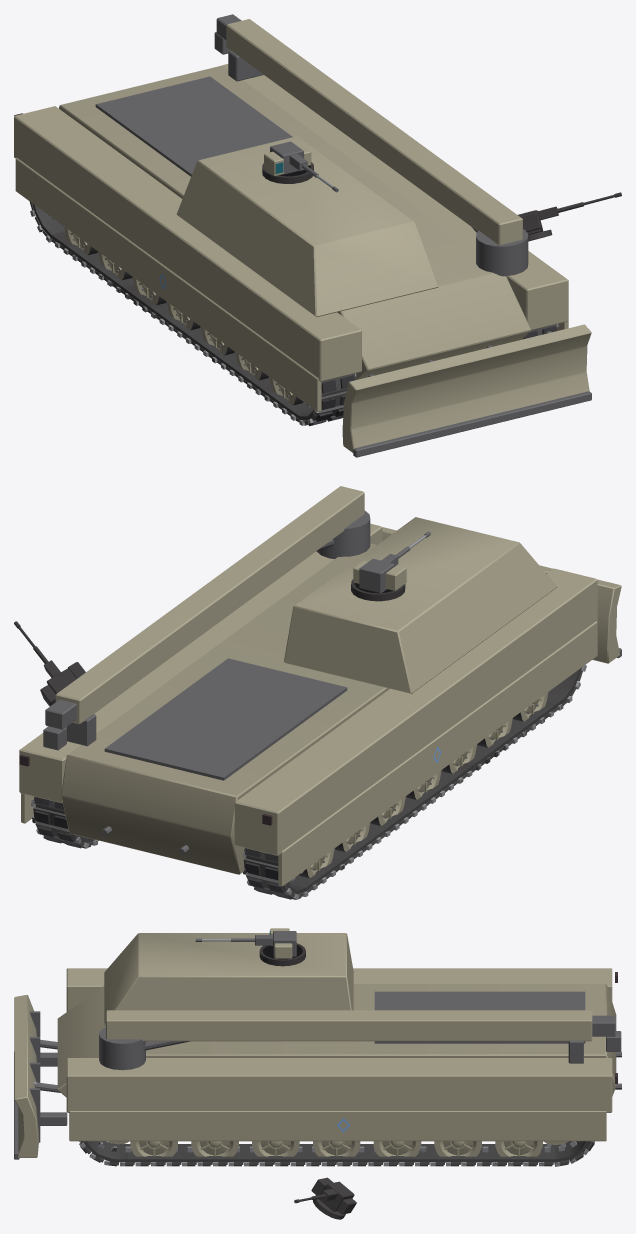
File: recoveryVehicle__leclerc_dcl.glb
3 renders of one model, top to bottom at view 1: azimuth 30°, elevation 25°; view 2: azimuth 150°, elevation 25°; view 3: azimuth 270°, elevation 25°, orthographic. The views are drawn at different scales.
Parts seen in each view (by area): view 1: Hull_Mesh, Track_L_Mesh, Wreck, Turret_Mesh; view 2: Hull_Mesh, Track_L_Mesh, Wreck, Track_R_Mesh, Turret_Mesh; view 3: Hull_Mesh, Track_R_Mesh, Wreck, Turret_Mesh, Wheel_R2_Mesh, Wheel_R3_Mesh, Wheel_R4_Mesh, Wheel_R5_Mesh, Wheel_R0_Mesh, Wheel_R1_Mesh, Wheel_R6_Mesh, Gun_Mesh.
Part boxes in pixels (bbox=[...]): Hull_Mesh: bbox=[14, 14, 591, 457]; Track_L_Mesh: bbox=[30, 202, 356, 426]; Wreck: bbox=[30, 162, 621, 424]; Turret_Mesh: bbox=[264, 141, 311, 176]; Hull_Mesh: bbox=[19, 486, 621, 886]; Track_L_Mesh: bbox=[242, 665, 586, 899]; Wreck: bbox=[14, 579, 580, 896]; Track_R_Mesh: bbox=[31, 796, 98, 848]; Turret_Mesh: bbox=[353, 558, 406, 592]; Hull_Mesh: bbox=[14, 933, 621, 1159]; Track_R_Mesh: bbox=[79, 1141, 594, 1166]; Wreck: bbox=[79, 943, 594, 1219]; Turret_Mesh: bbox=[269, 928, 296, 958]; Wheel_R2_Mesh: bbox=[373, 1141, 421, 1164]; Wheel_R3_Mesh: bbox=[313, 1141, 360, 1164]; Wheel_R4_Mesh: bbox=[252, 1141, 299, 1164]; Wheel_R5_Mesh: bbox=[191, 1141, 238, 1164]; Wheel_R0_Mesh: bbox=[495, 1141, 542, 1163]; Wheel_R1_Mesh: bbox=[434, 1141, 481, 1163]; Wheel_R6_Mesh: bbox=[130, 1141, 177, 1163]; Gun_Mesh: bbox=[195, 935, 272, 945].
Size of what is drawn, in the model's own units: 6.43 by 2.64 by 8.8.
